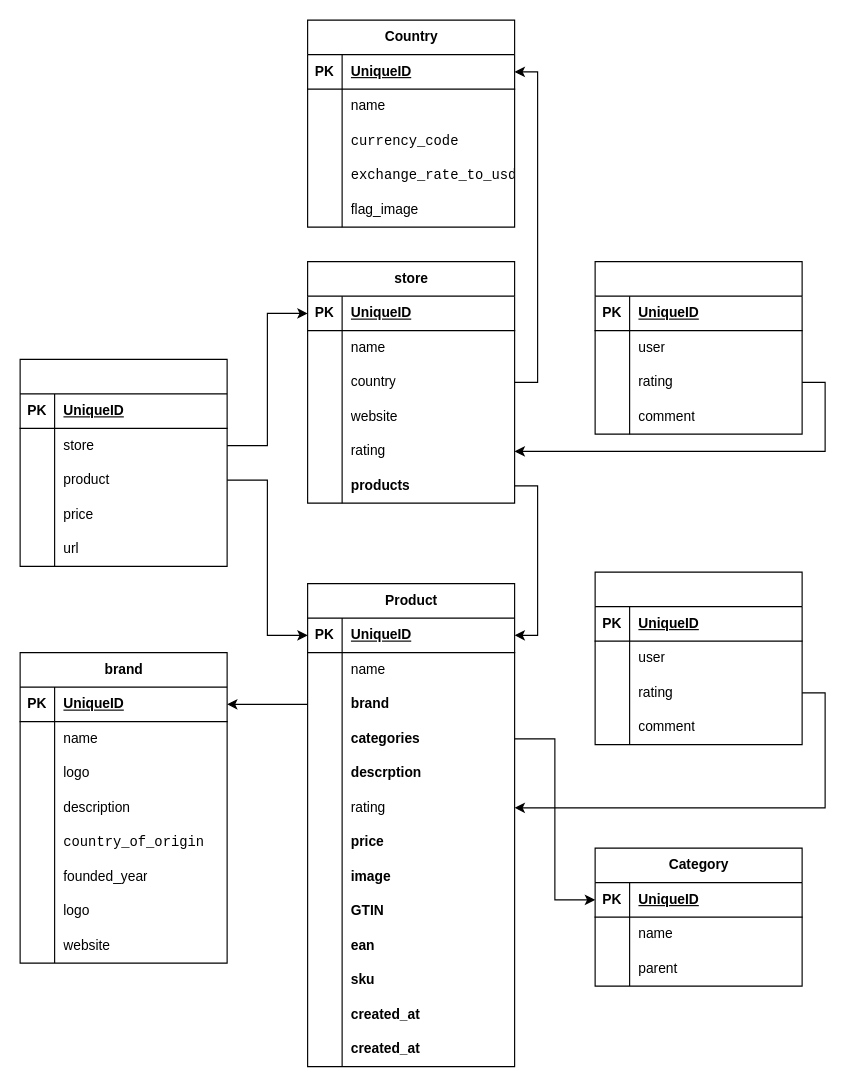
The diagram is 854 pixels wide and 1087 high, and some of its shapes have lost their labels. The shapes that lost their labels are listed below. From the top down, each one's box as (x1, y1, x2, y2) in pixels, then its label:
(594, 260, 802, 434): store_rewiew
(19, 358, 227, 566): StoreProduct
(594, 571, 802, 745): product_rewiew
